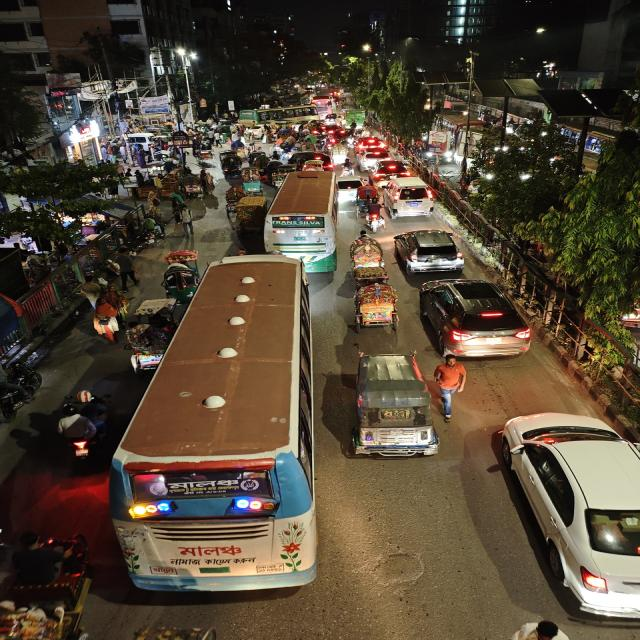bus: (111, 256, 320, 602), (261, 171, 340, 272), (245, 99, 330, 123)
car: (486, 407, 639, 634), (416, 276, 536, 362), (391, 226, 468, 274), (382, 176, 437, 218), (374, 159, 414, 177), (337, 177, 366, 195), (355, 136, 387, 152), (360, 147, 391, 161)
cng: (344, 347, 439, 464)
motorcycle: (52, 392, 108, 468), (0, 363, 43, 426), (339, 158, 358, 177)
pedestrian: (432, 353, 469, 420), (87, 292, 123, 342), (107, 248, 142, 290), (76, 274, 103, 310), (142, 216, 167, 244), (176, 203, 196, 237), (188, 192, 210, 222)
rickshaw: (0, 527, 97, 640), (348, 279, 404, 334), (346, 232, 385, 282), (227, 191, 264, 235), (160, 266, 197, 302), (352, 185, 382, 229), (224, 187, 251, 230), (216, 151, 245, 180), (162, 248, 198, 270), (240, 172, 263, 195), (273, 130, 296, 146), (331, 146, 349, 166), (300, 160, 326, 170)
truck: (343, 109, 366, 126)
